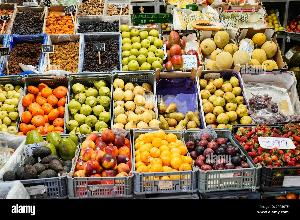apple: (121, 22, 161, 70), (162, 32, 206, 72)
avocado: (4, 134, 76, 186)
melon: (202, 32, 280, 70)
orange: (21, 78, 67, 136)
pear: (67, 74, 111, 134), (112, 73, 158, 129), (202, 74, 244, 132), (160, 74, 198, 130), (1, 78, 24, 134)
plum: (128, 131, 186, 180), (190, 134, 244, 178), (82, 136, 132, 180)
strawberry: (236, 126, 300, 170)
